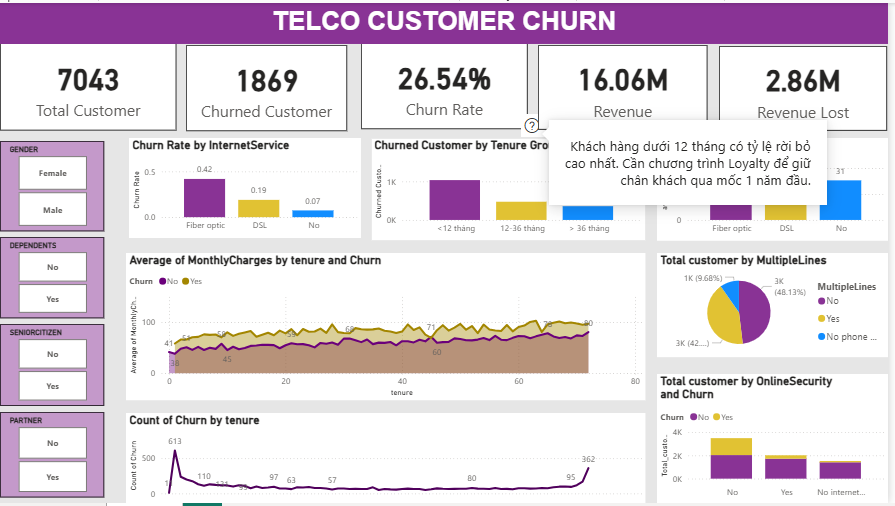

The dashboard page shown, as its layout file describes it:
{"tool":"powerbi","page":{"name":"Page 1","canvas":[1280,720],"ordinal":0},"visuals":[{"type":"card","fields":{"Values":["Count(Telco-Customer-Churn (2).customerID)"]},"box":[0,57.1,254.3,125.7],"z":0},{"type":"card","fields":{"Values":["Telco-Customer-Churn (2).Churned_customer"]},"box":[268,60,232,124],"z":1000},{"type":"card","fields":{"Values":["Telco-Customer-Churn (2).Churn_Rate"]},"box":[520,58,240,124],"z":2000},{"type":"clusteredColumnChart","title":"Churned Customer by Tenure Group","fields":{"Y":["Telco-Customer-Churn (2).Churned_customer"],"Category":["Telco-Customer-Churn (2).Tenure Group"]},"box":[534,194,396,148],"z":3000},{"type":"clusteredColumnChart","title":"AVG tenure by InternetService","fields":{"Y":["Telco-Customer-Churn (2).avg_tenure"],"Category":["Telco-Customer-Churn (2).InternetService"]},"box":[946,194,334,148],"z":4000},{"type":"columnChart","title":"Total customer by OnlineSecurity and Churn","fields":{"Y":["Telco-Customer-Churn (2).Total_customer"],"Series":["Telco-Customer-Churn (2).Churn"],"Category":["Telco-Customer-Churn (2).OnlineSecurity"]},"box":[946,534.9,333.3,185.7],"z":5000},{"type":"pieChart","title":"Total customer by MultipleLines","fields":{"Category":["Telco-Customer-Churn (2).MultipleLines"],"Y":["Telco-Customer-Churn (2).Total_customer"]},"box":[946,360,334,150],"z":6000},{"type":"slicer","fields":{"Values":["Telco-Customer-Churn (2).Dependents"]},"box":[0,337,150,117],"z":7000},{"type":"slicer","fields":{"Values":["Telco-Customer-Churn (2).SeniorCitizen"]},"box":[0,462,150,118],"z":8000},{"type":"columnChart","title":"Churn Rate by InternetService","fields":{"Category":["Telco-Customer-Churn (2).InternetService"],"Y":["Telco-Customer-Churn (2).Churn_Rate"]},"box":[186,194,334,144],"z":9000},{"type":"textbox","box":[0,0,1279,58.5],"z":10000},{"type":"slicer","fields":{"Values":["Telco-Customer-Churn (2).gender"]},"box":[0,198.3,150,130],"z":11000},{"type":"card","fields":{"Values":["Telco-Customer-Churn (2).Revenue Lost"]},"box":[1036,62,242,122],"z":12000},{"type":"card","fields":{"Values":["Sum(Telco-Customer-Churn (2).TotalCharges)"]},"box":[774,60,244,122],"z":13000},{"type":"areaChart","fields":{"Category":["Telco-Customer-Churn (2).tenure"],"Y":["Avg(Telco-Customer-Churn (2).MonthlyCharges)"],"Series":["Telco-Customer-Churn (2).Churn"]},"box":[182,360,748,212],"z":14000},{"type":"slicer","fields":{"Values":["Telco-Customer-Churn (2).Partner"]},"box":[0,589,150,123],"z":15000},{"type":"lineChart","fields":{"Category":["Telco-Customer-Churn (2).tenure"],"Y":["CountNonNull(Telco-Customer-Churn (2).Churn)"]},"box":[182,590,748,130],"z":16000}]}

Visuals, with their boxes in screenshot pixels (x1, y1, x2, y2), scaled from the page's 1280x720 canvas onto the 895x506 screenshot:
card - Count(Telco-Customer-Churn (2).customerID): 0/40/178/128
card - Telco-Customer-Churn (2).Churned_customer: 187/42/350/129
card - Telco-Customer-Churn (2).Churn_Rate: 364/41/531/128
"Churned Customer by Tenure Group" clusteredColumnChart: 373/136/650/240
"AVG tenure by InternetService" clusteredColumnChart: 661/136/894/240
"Total customer by OnlineSecurity and Churn" columnChart: 661/376/894/505
"Total customer by MultipleLines" pieChart: 661/253/894/358
slicer - Telco-Customer-Churn (2).Dependents: 0/237/105/319
slicer - Telco-Customer-Churn (2).SeniorCitizen: 0/325/105/408
"Churn Rate by InternetService" columnChart: 130/136/364/238
textbox: 0/0/894/41
slicer - Telco-Customer-Churn (2).gender: 0/139/105/231
card - Telco-Customer-Churn (2).Revenue Lost: 724/44/894/129
card - Sum(Telco-Customer-Churn (2).TotalCharges): 541/42/712/128
areaChart - Telco-Customer-Churn (2).tenure x Avg(Telco-Customer-Churn (2).MonthlyCharges): 127/253/650/402
slicer - Telco-Customer-Churn (2).Partner: 0/414/105/500
lineChart - Telco-Customer-Churn (2).tenure x CountNonNull(Telco-Customer-Churn (2).Churn): 127/415/650/505
